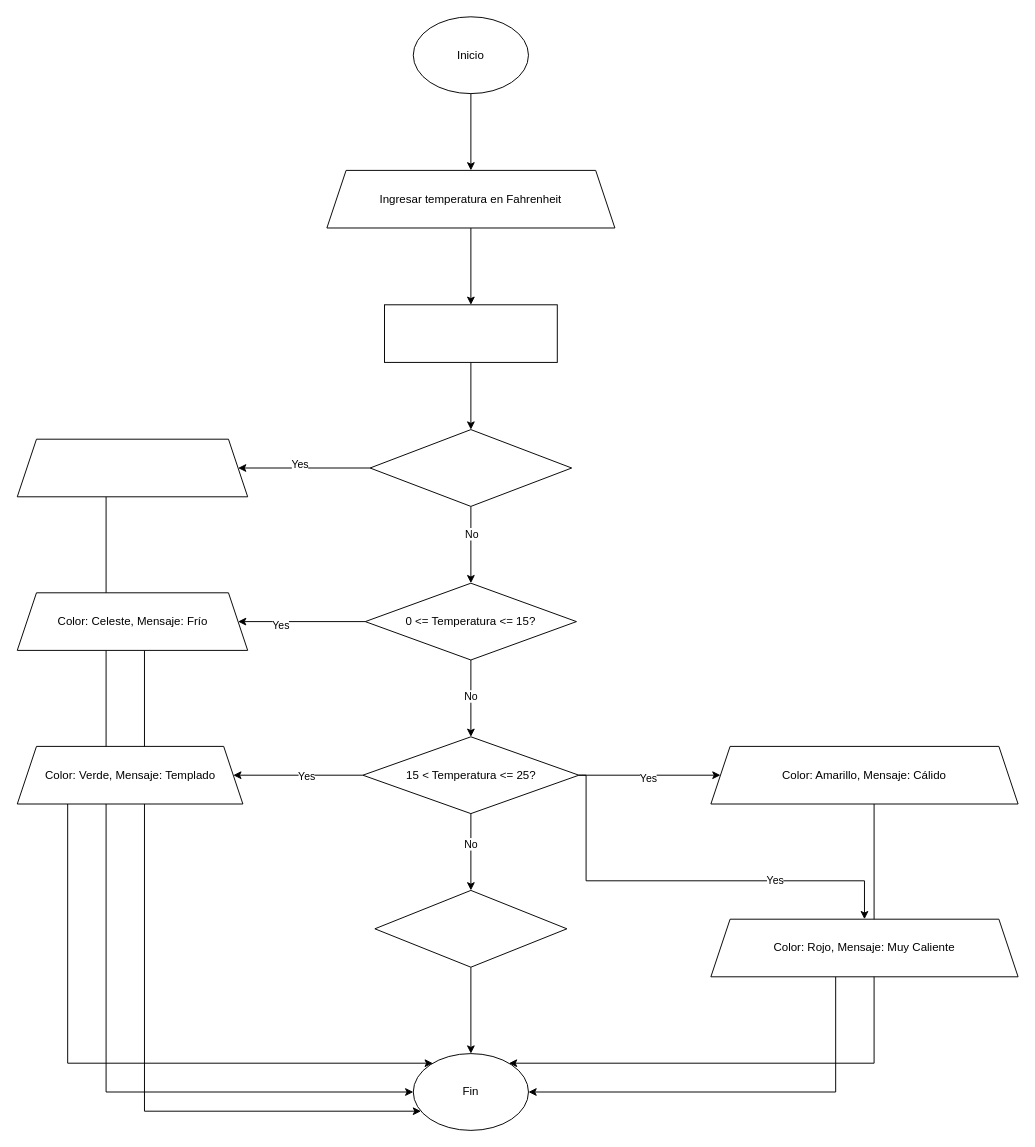
Image size: 1035x1147. Some labels were removed from this diagram. Each missing label, with the centre of its shape:
25 < Temperatura <= 35?: point (470, 928)
Color: Azul, Mensaje: Muy Frio: point (132, 467)
Convertir a Celsius: point (470, 333)
Temperatura < 0?: point (470, 467)
